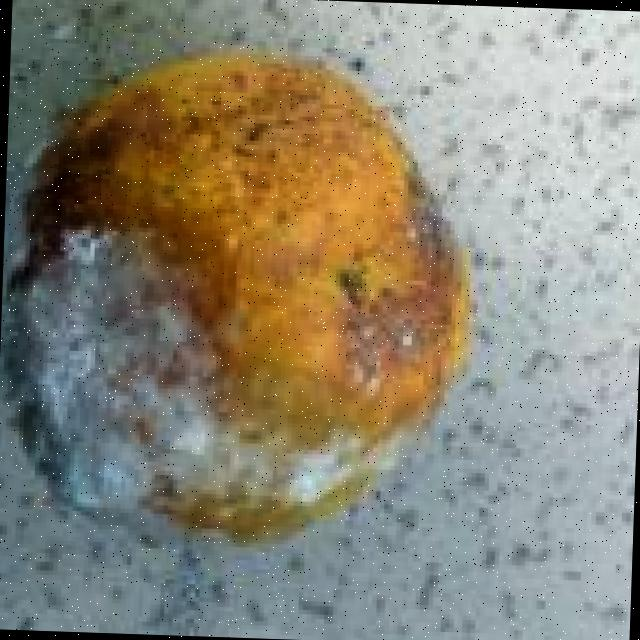Bad_Lime-0-1-day: (1, 48, 470, 548)
